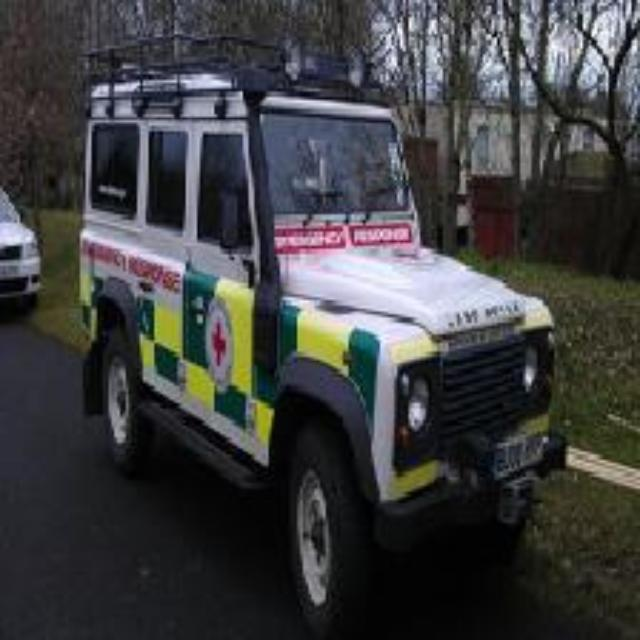emergency: (73, 64, 567, 550)
